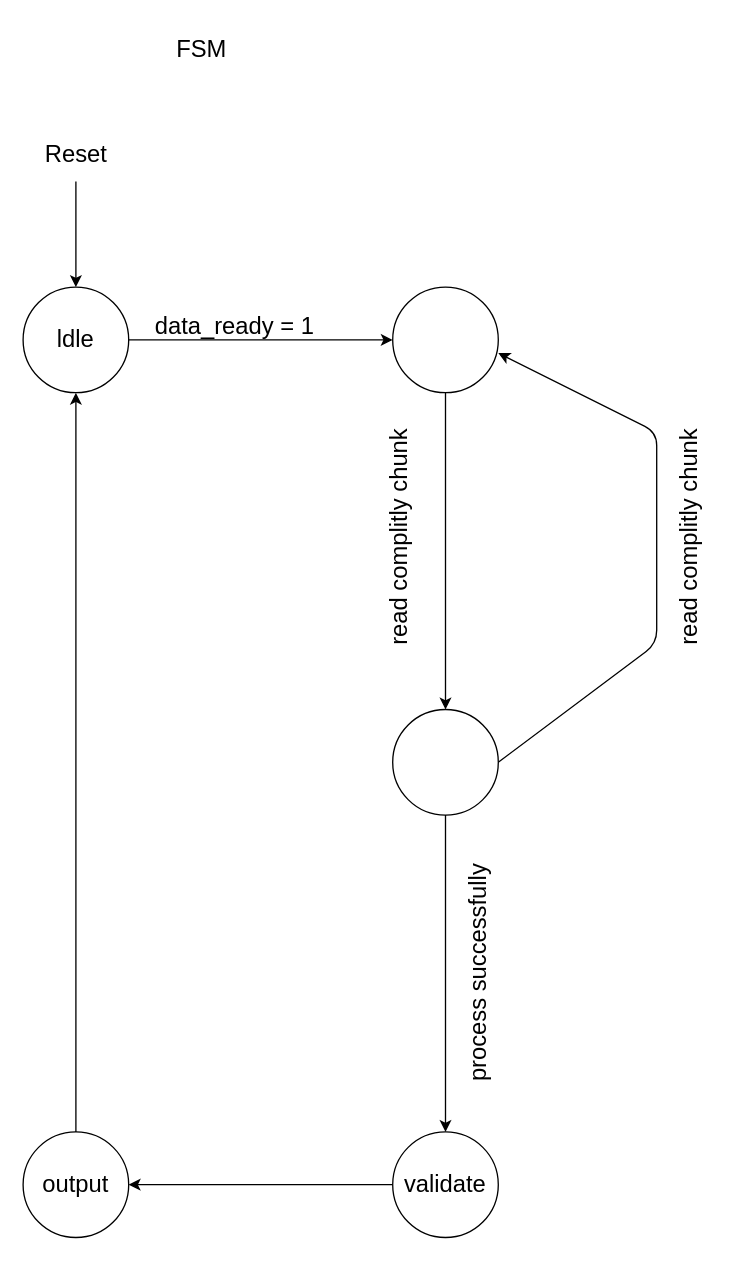
This 739x1261 diagram has some shape labels left out. Here are the shapes that lost their labels. From the top down, the centre of each, then its label:
[444,339]: read chunk
[444,761]: process chunk
